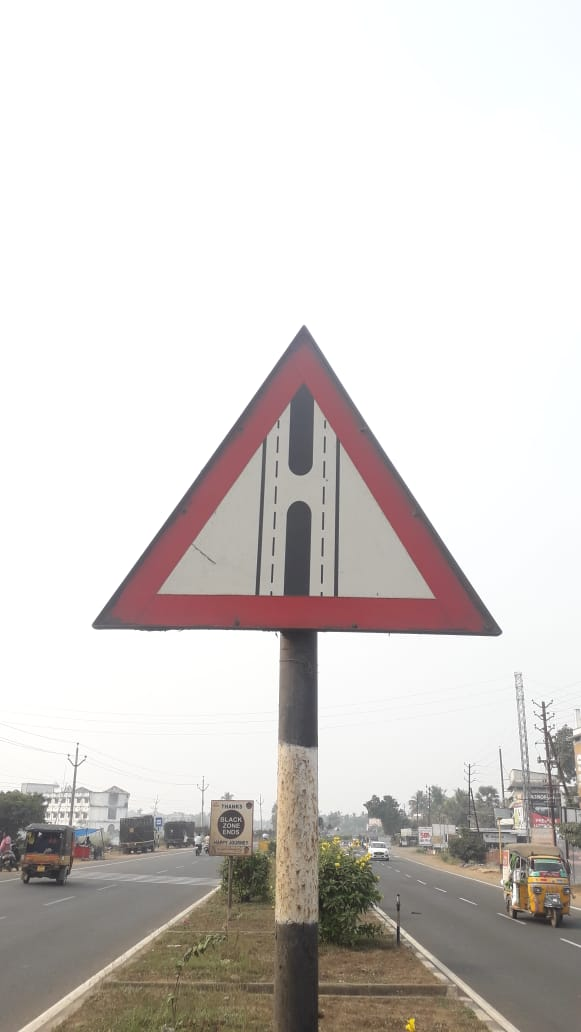highway go straight: (83, 320, 523, 655)
